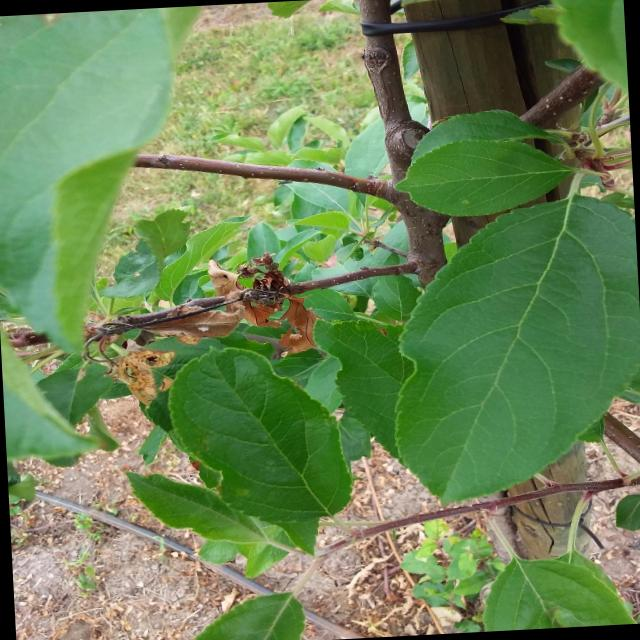-FireBlight-: (84, 258, 328, 372)
